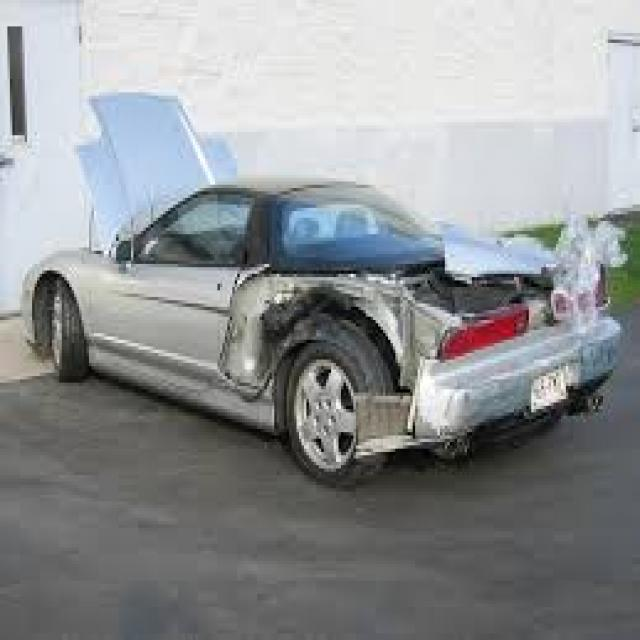moderate: (214, 220, 631, 470)
